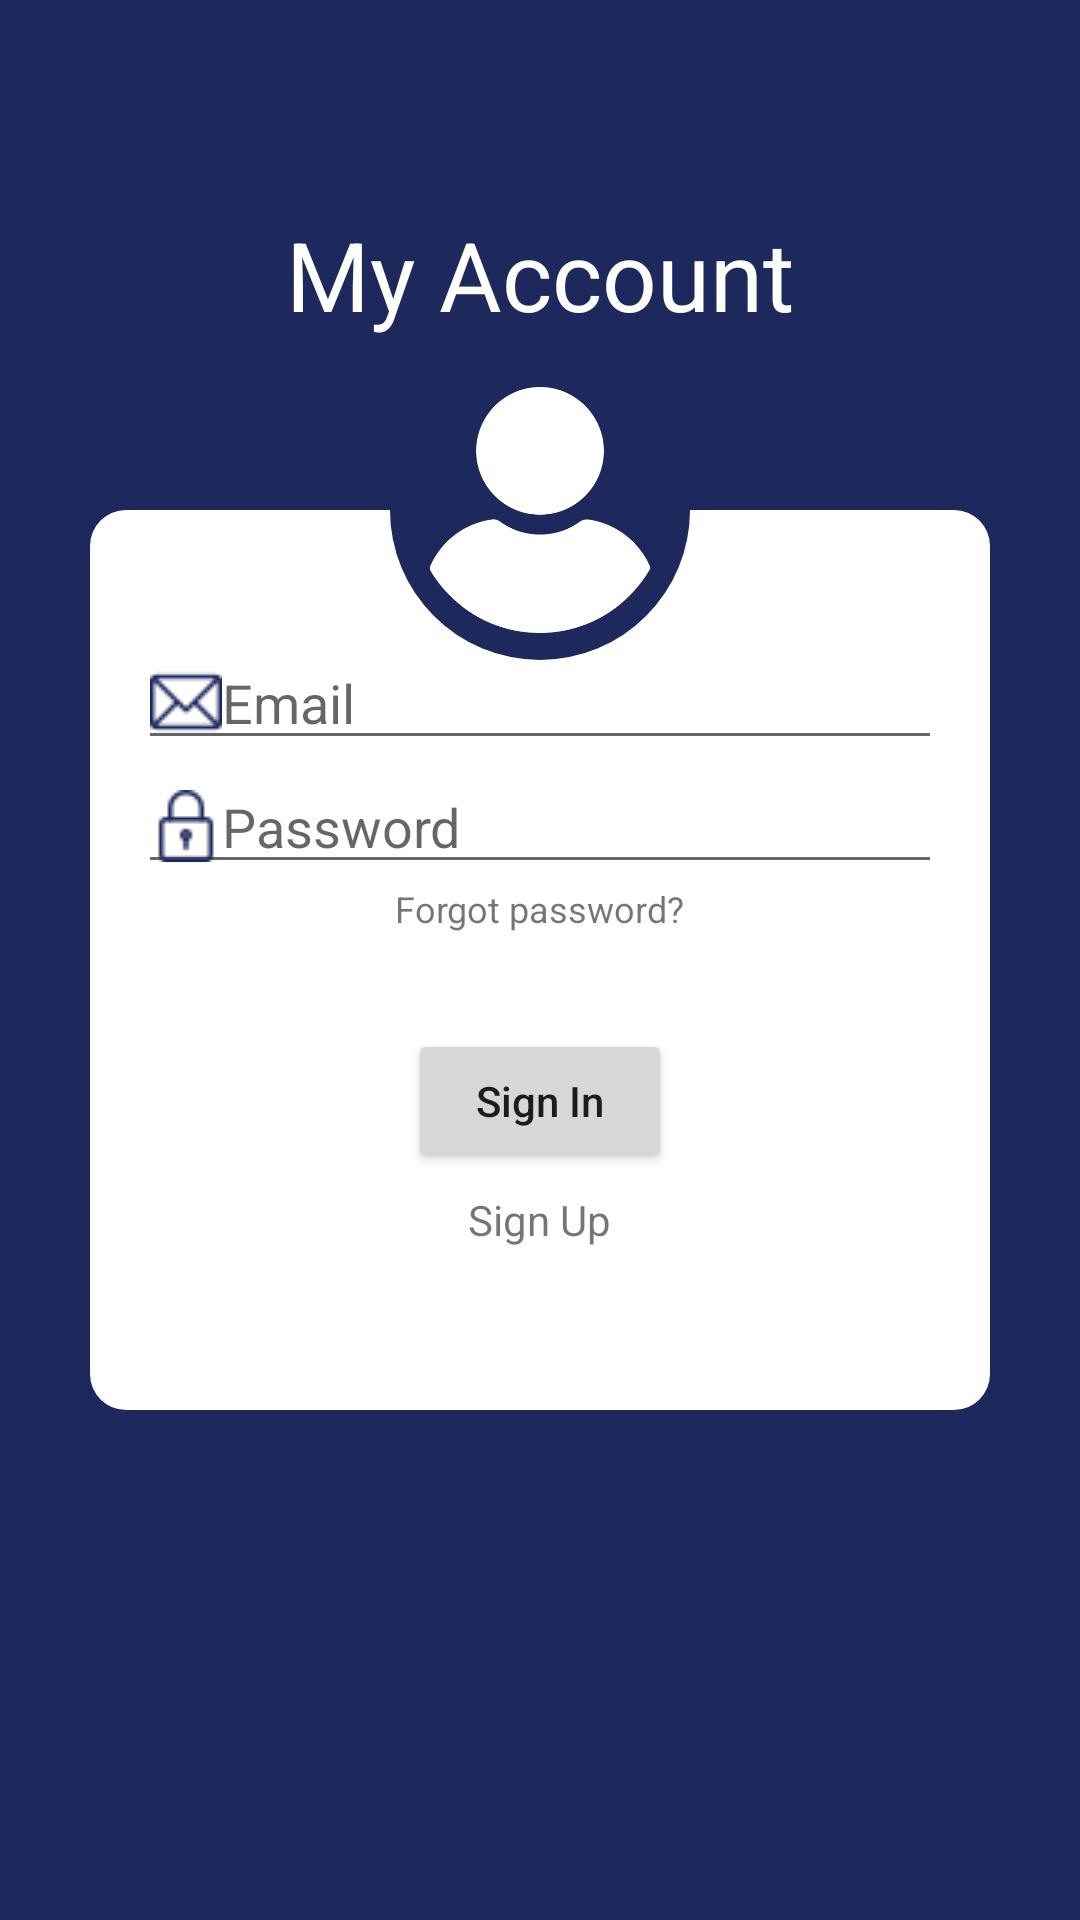

Icon click points for this 1080w x 1920h phone screenshot, format [x,y]:
profile: [540,510]
